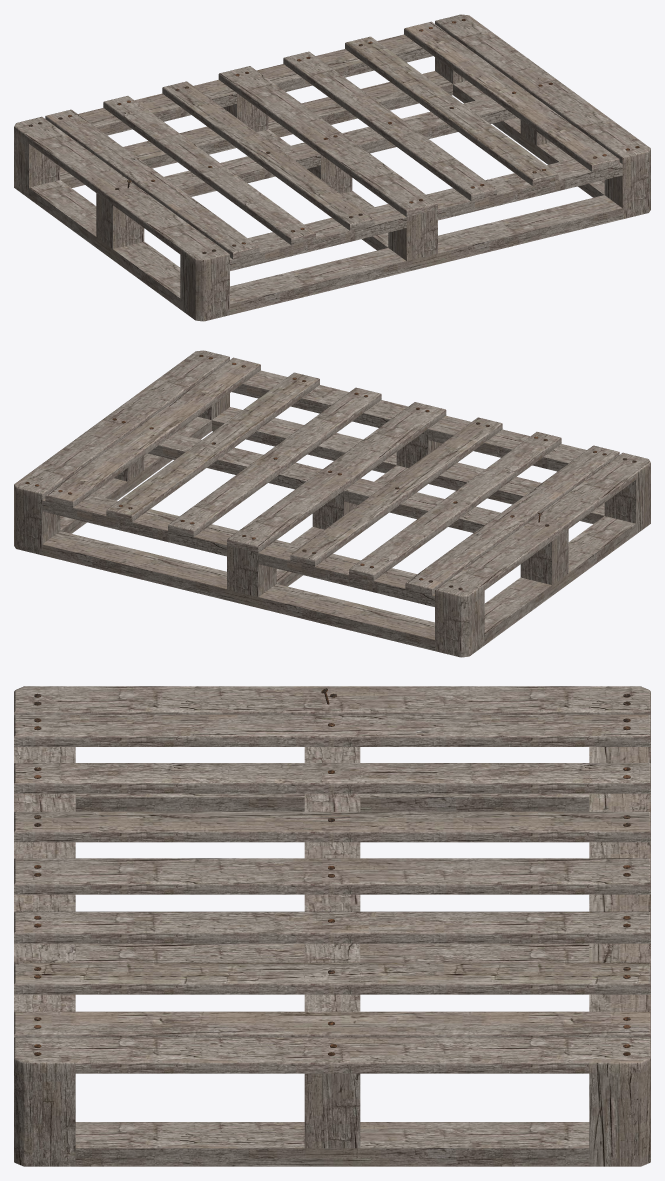
The model's file is Paleta.FBX.
3 renders of one model, top to bottom at view 1: azimuth 30°, elevation 25°; view 2: azimuth 150°, elevation 25°; view 3: azimuth 270°, elevation 25°, orthographic. The views are drawn at different scales.
Parts seen in each view (by area): view 1: Paleta; view 2: Paleta; view 3: Paleta.
Part boxes in pixels (x1,y1,x2,y2): Paleta: (14, 14, 650, 321); Paleta: (14, 350, 650, 657); Paleta: (14, 686, 650, 1166).
Size of the model in its own units: 85.46 by 12.6 by 61.02.
